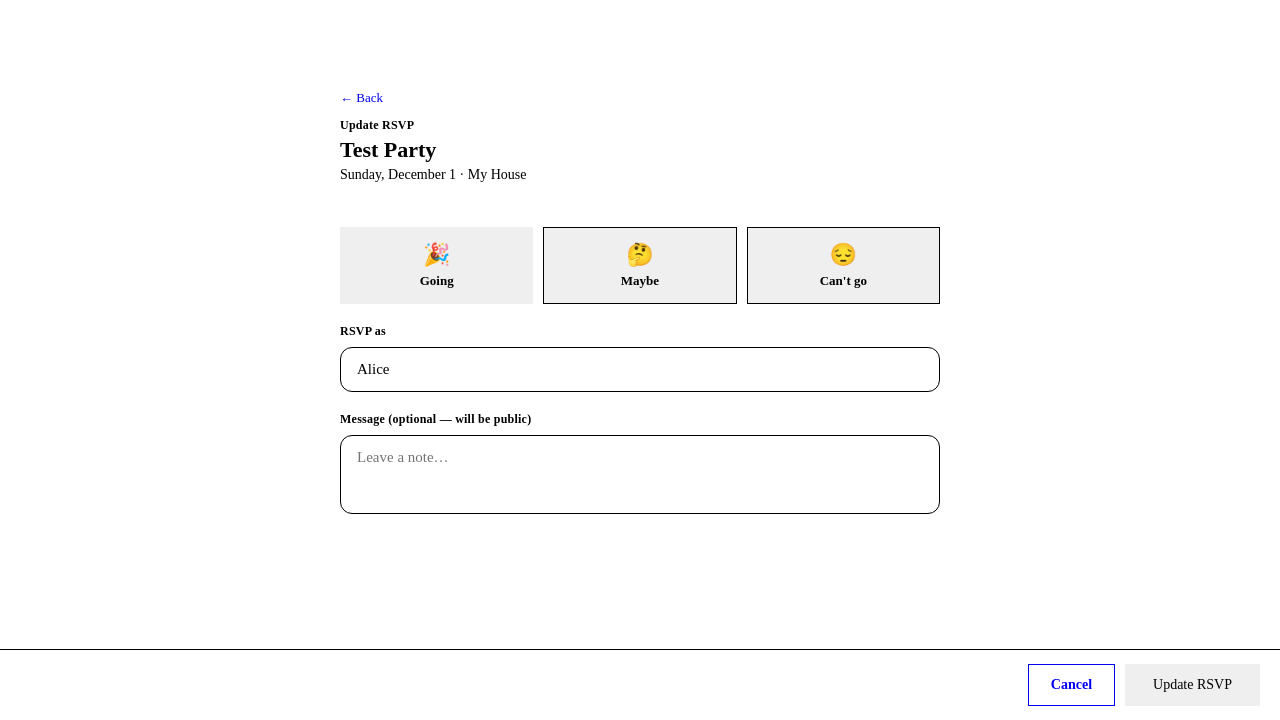
Test case: RsvpFlow — edit mode › shows 'RSVP updated!' on successful update
The width and height of the screenshot is (1280, 720).
Replace the text in the field with placeholder "Your name (required)" with " Alice Jones " at x=640, y=370, box [340,347,940,392]
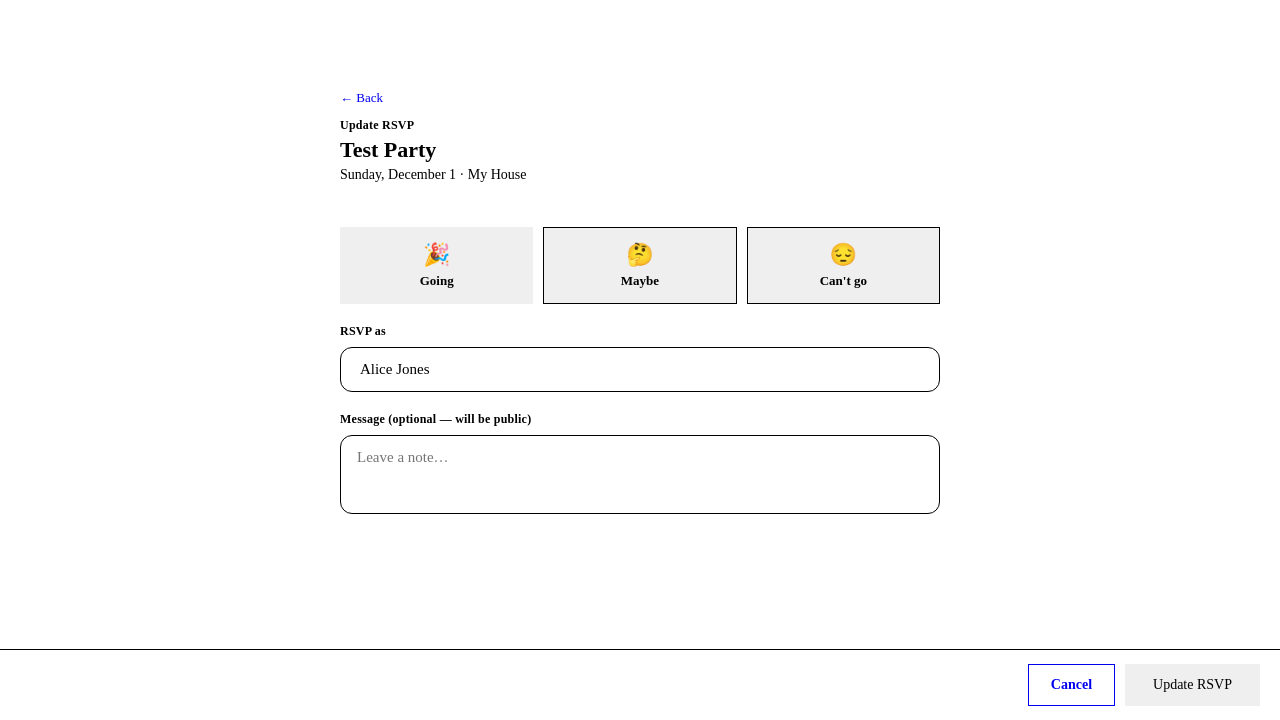
Click the button "Update RSVP" at x=1192, y=685, box [1125,664,1260,706]
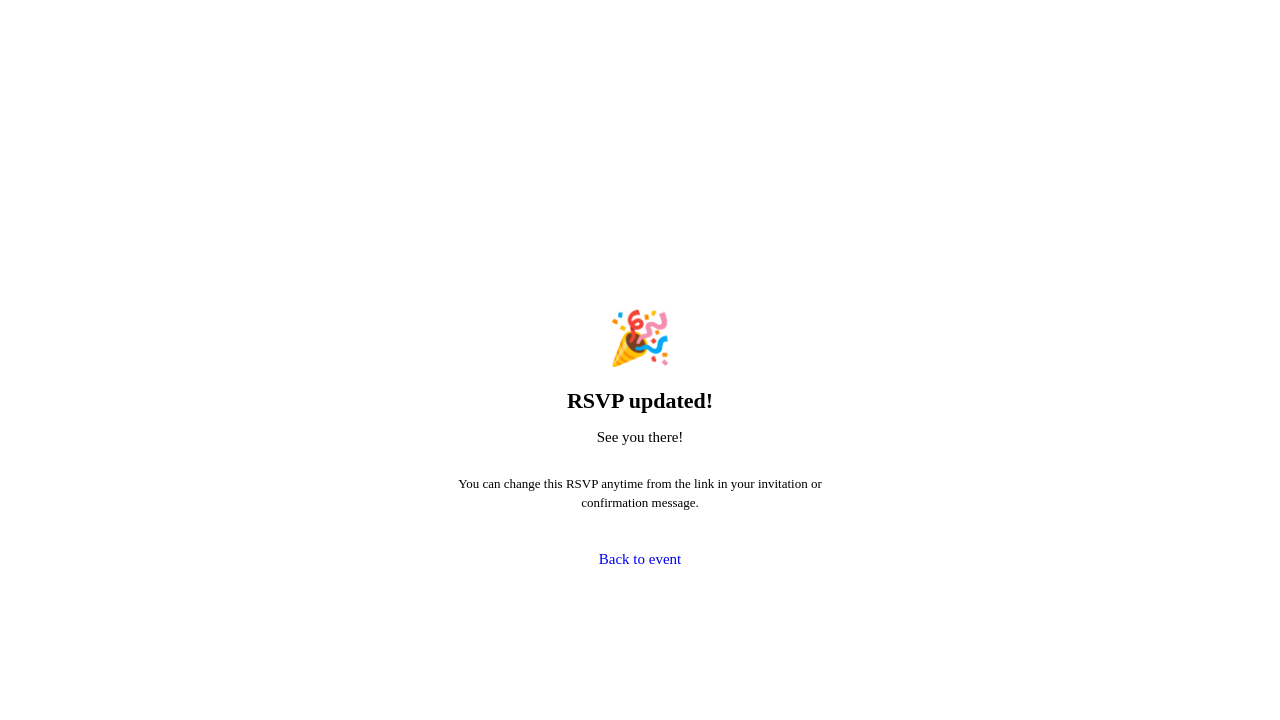
Check: the heading "RSVP updated!" is shown, box [567,388,713,413]
